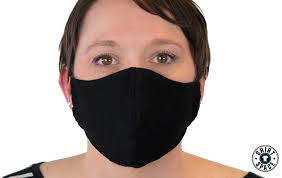with-mask: (55, 1, 215, 173)
